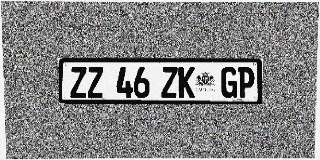4: (116, 67, 133, 98)
6: (133, 67, 150, 98)
G: (221, 67, 238, 98)
K: (178, 67, 195, 98)
P: (238, 67, 254, 98)
Z: (70, 67, 87, 98), (87, 67, 104, 98), (161, 67, 178, 98)
